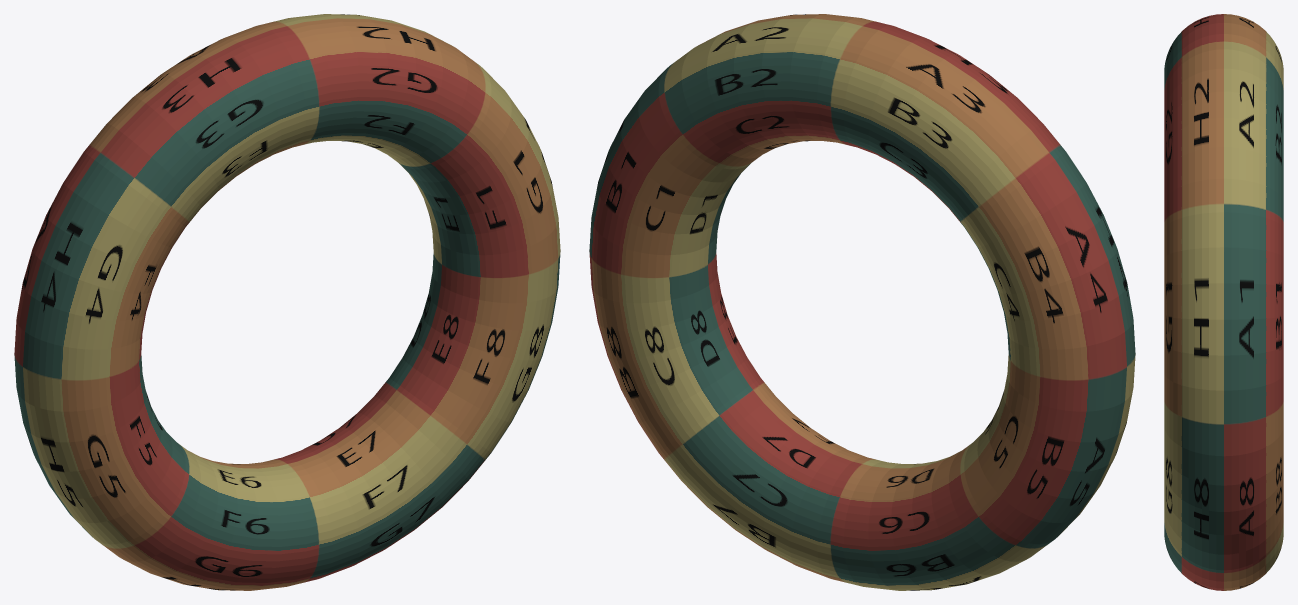
The model's file is texture_torus_R30_r22.glb.
3 views of the same model, side by side, from view 1: azimuth 30°, elevation 25°; view 2: azimuth 150°, elevation 25°; view 3: azimuth 270°, elevation 25° (orthographic). The views are drawn at different scales.
Visible parts, largest first — view 1: world; view 2: world; view 3: world.
Part boxes in pixels (x1,y1,x2,y2): world: (14, 14, 560, 590); world: (589, 14, 1135, 590); world: (1164, 14, 1283, 590).
Bounding box in the file's own units: 37.87 × 37.79 × 7.85.
Materials: 1 (1 with a texture image).
